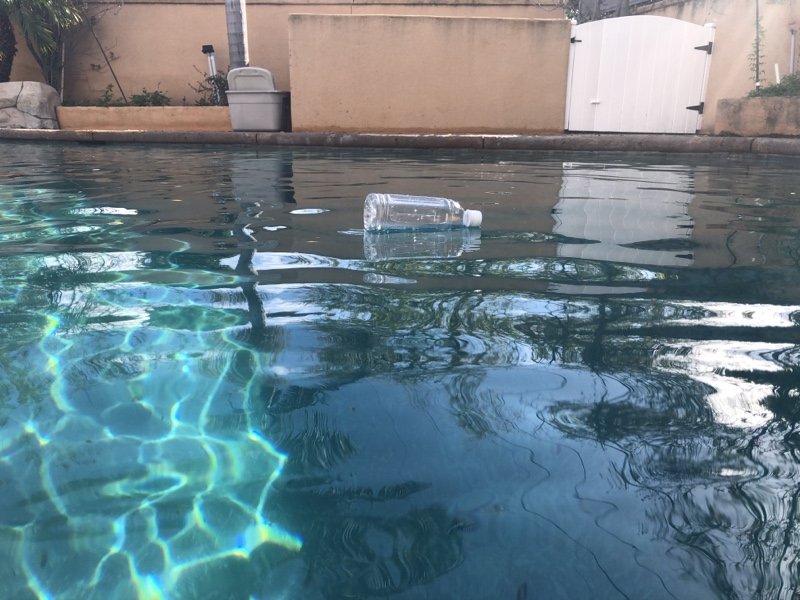Plastic Bottle: (361, 189, 482, 234)
